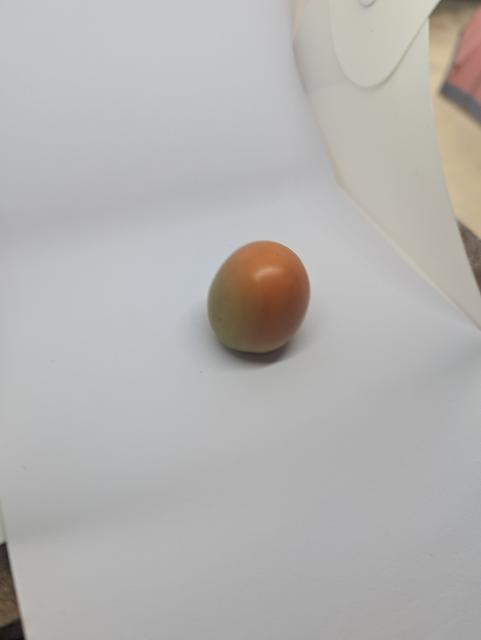turning: (198, 222, 325, 385)
